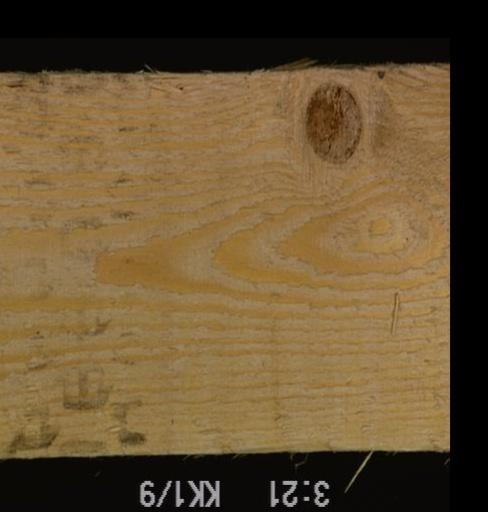sound_knot: (303, 80, 364, 165)
